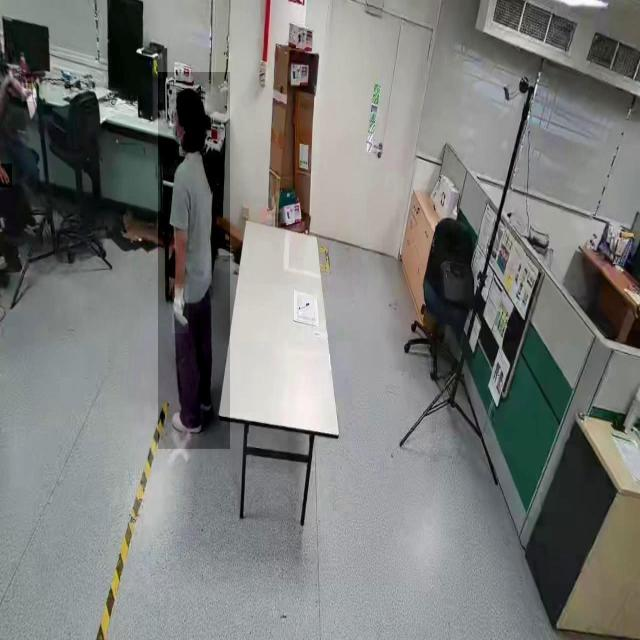hand_glove: (172, 284, 189, 334)
hand_noglove: (22, 83, 38, 102), (0, 163, 12, 188)
head_nohelmet: (176, 88, 204, 109)
person: (158, 72, 230, 450)
shoes: (169, 402, 203, 443)
